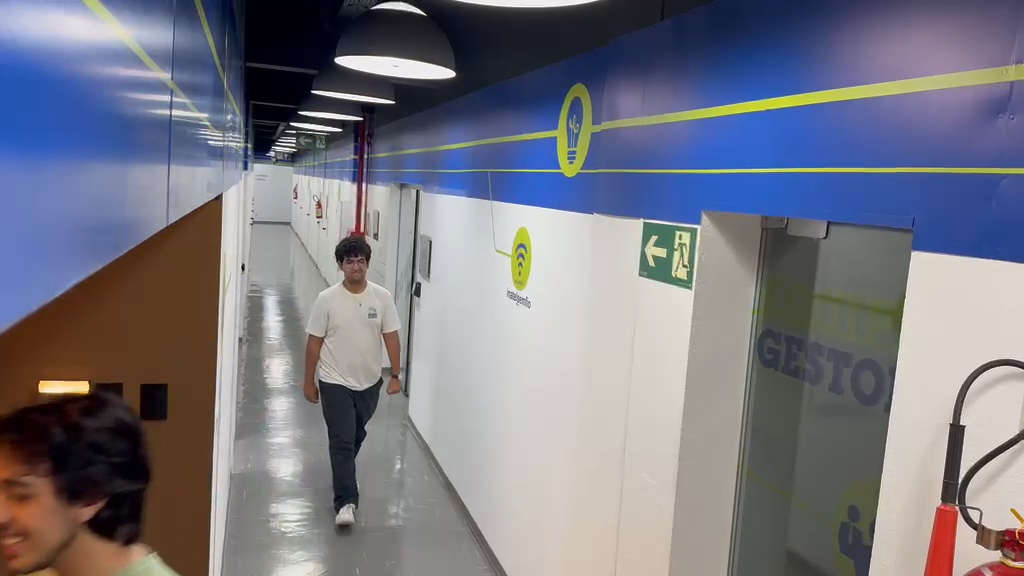person: (1, 391, 182, 574), (302, 234, 402, 530)
